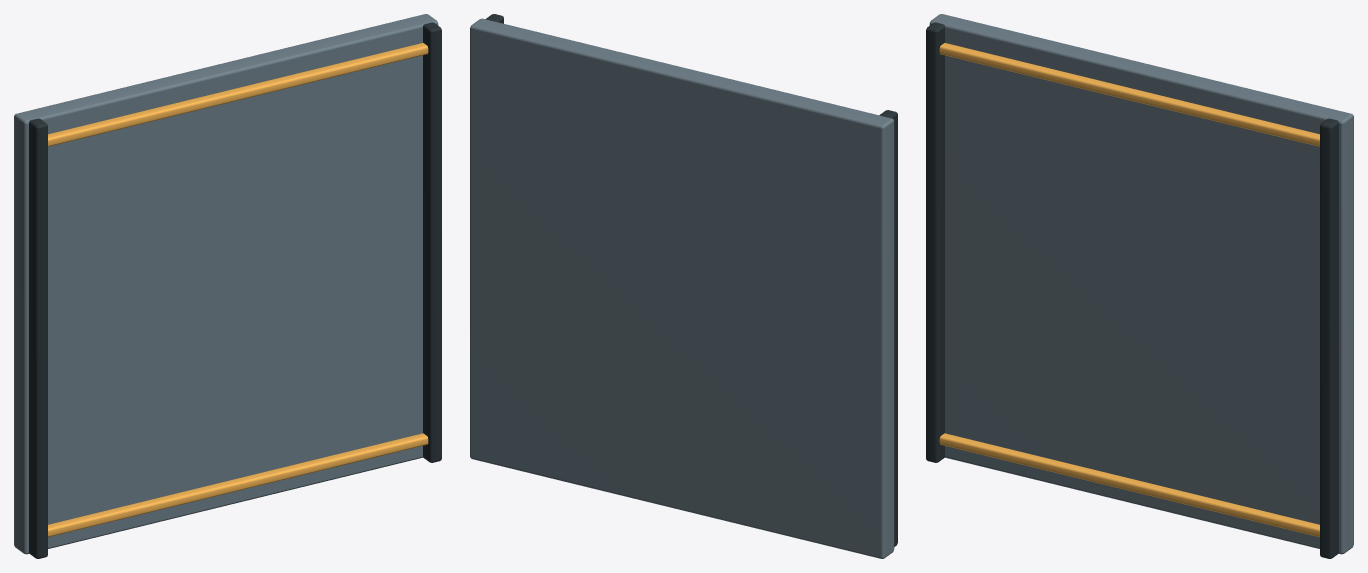
File: SM_FE_Wall.fbx
3 views of the same model, side by side, from view 1: azimuth 30°, elevation 25°; view 2: azimuth 150°, elevation 25°; view 3: azimuth 330°, elevation 25° (orthographic).
Parts seen in each view (by area): view 1: SM_FE_Wall; view 2: SM_FE_Wall; view 3: SM_FE_Wall.
Boxes of the visible parts, left/top/right/bottom form: SM_FE_Wall: left=14, top=14, right=441, bottom=558; SM_FE_Wall: left=470, top=14, right=897, bottom=558; SM_FE_Wall: left=926, top=14, right=1353, bottom=558.
Bounding box in the file's own units: 400 × 33 × 400.
